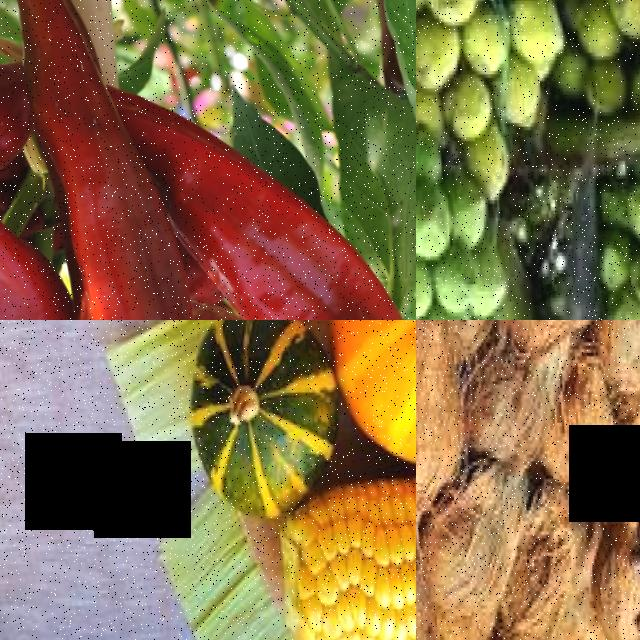chilli: (10, 0, 192, 320), (190, 132, 416, 320)
coconut: (418, 475, 513, 614), (416, 320, 470, 491), (595, 320, 640, 391)
coconuts: (416, 0, 564, 140), (416, 124, 511, 320)
corn: (272, 452, 416, 640)
